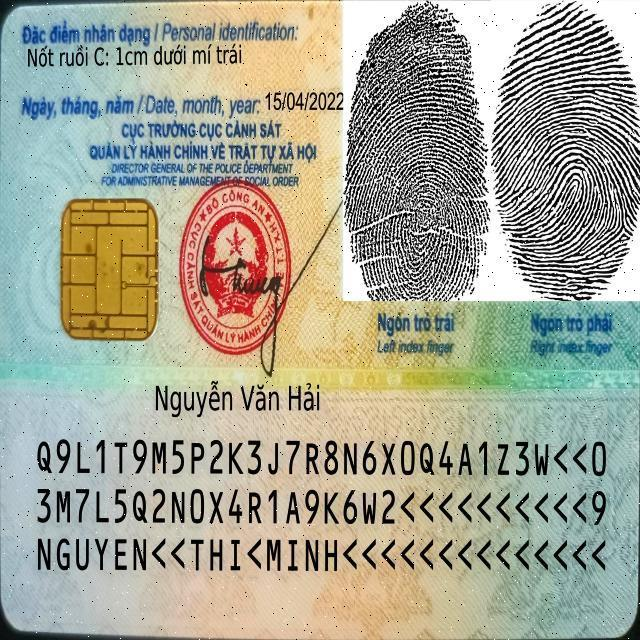features: (25, 41, 250, 78)
finger_print: (344, 2, 492, 359), (494, 3, 640, 359)
issue_date: (263, 87, 345, 114)
